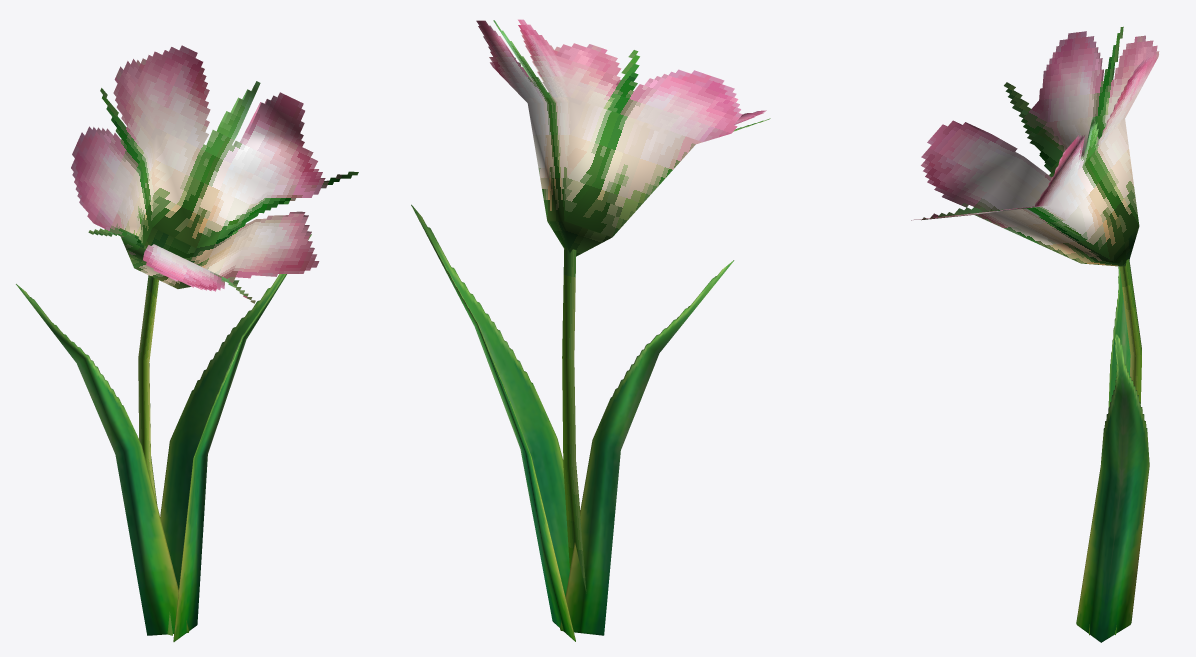
The model's file is Flower1_1.obj.
The picture shows the model from 3 angles, left to right: view 1: azimuth 30°, elevation 25°; view 2: azimuth 150°, elevation 25°; view 3: azimuth 270°, elevation 25°; orthographic projection. The views are drawn at different scales.
Bounding box in the file's own units: 10 × 16.52 × 8.18.
3 materials, 3 textured.
